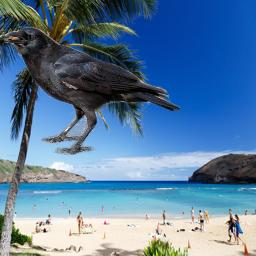Crow: (4, 26, 181, 155)
